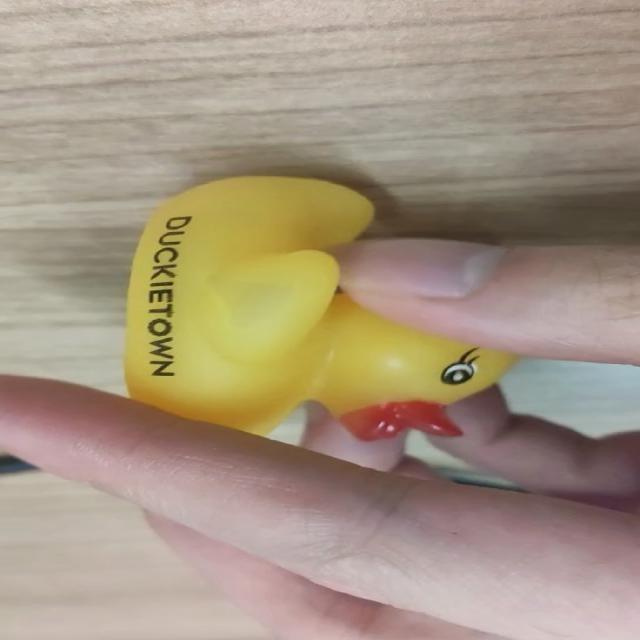rubber-duck: (124, 176, 514, 438)
